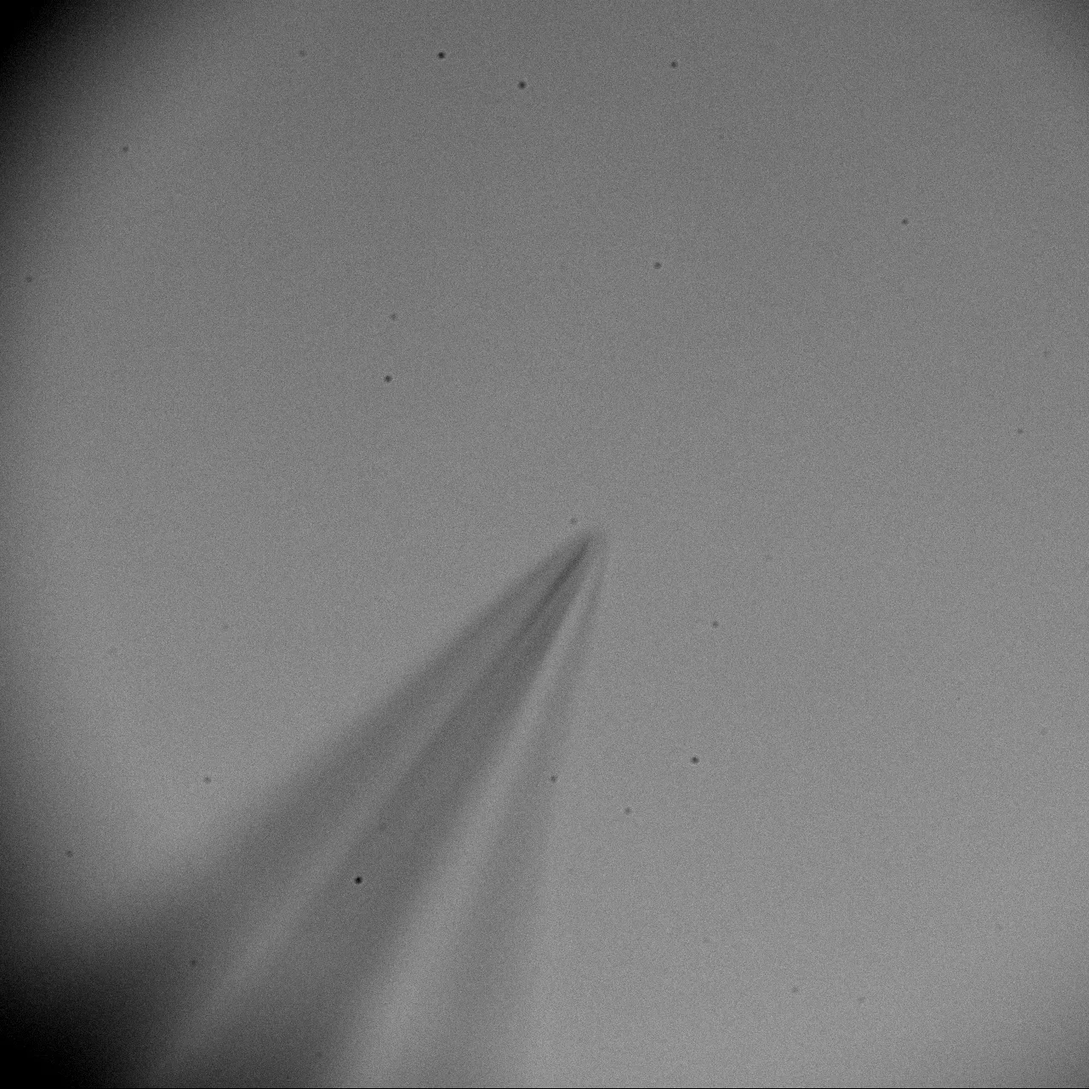tip: (478, 526, 619, 686)
